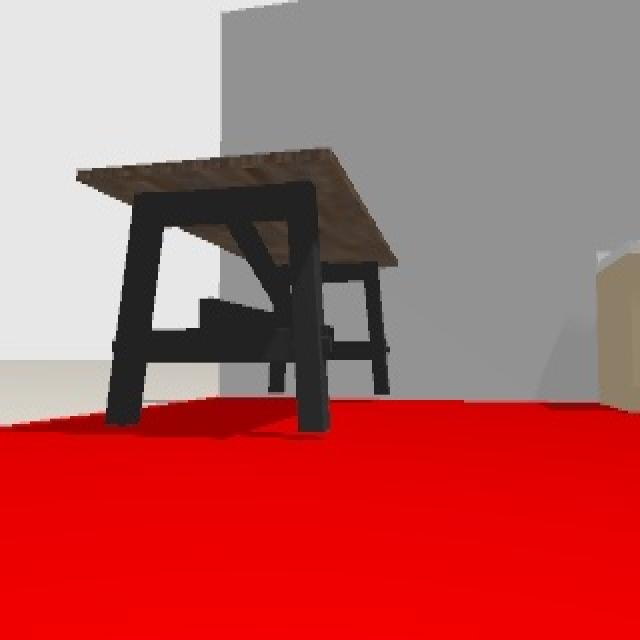dining: (78, 158, 405, 432)
